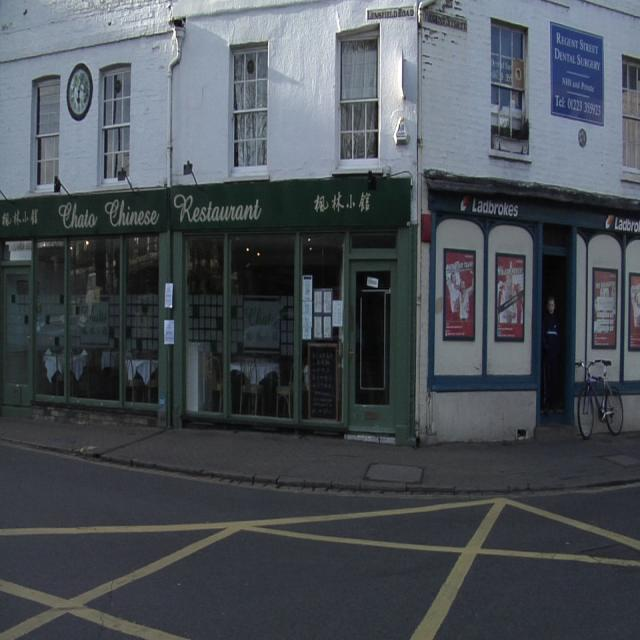Building: (3, 0, 526, 443), (422, 1, 638, 440)
Road: (0, 444, 640, 638)
